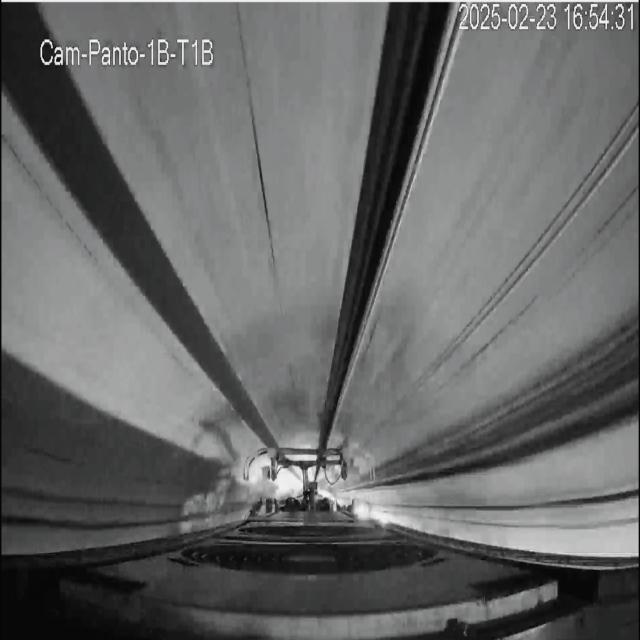Camera Stamp: (35, 29, 219, 72)
Date Stamp: (457, 3, 631, 33)
No - Spark: (218, 440, 336, 514)
